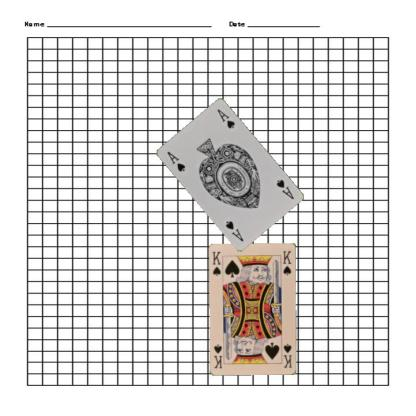As: (164, 148, 187, 173), (274, 177, 295, 200)
Ks: (281, 342, 293, 369), (210, 250, 222, 277)
